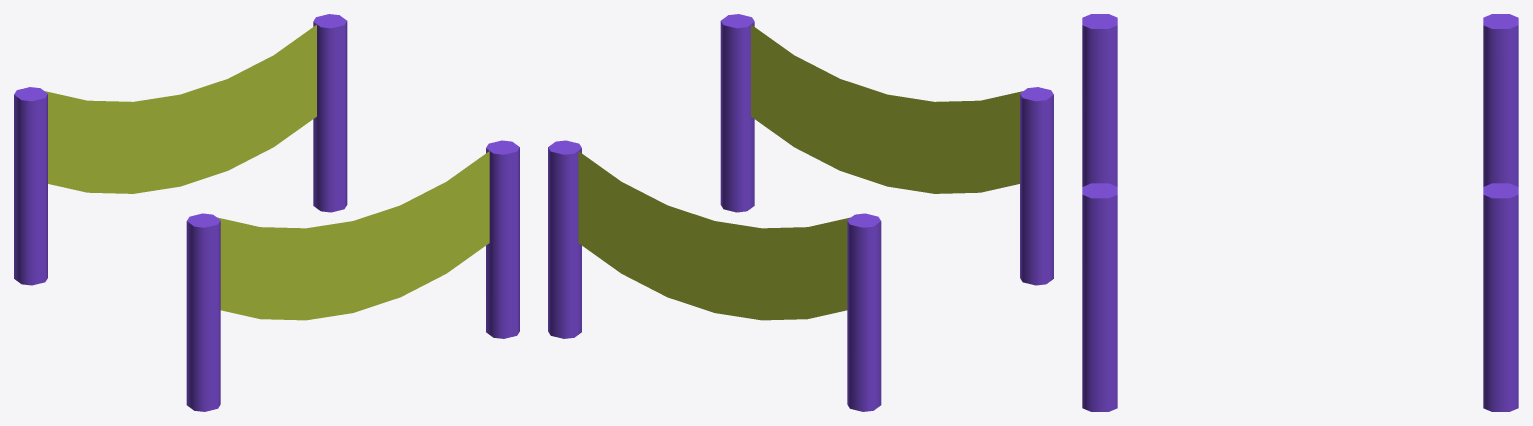
File: banner_hanging_double.dae
The picture shows the model from 3 angles, left to right: view 1: azimuth 30°, elevation 25°; view 2: azimuth 150°, elevation 25°; view 3: azimuth 270°, elevation 25°; orthographic projection. The views are drawn at different scales.
Visible parts, largest first — view 1: banner_hanging_double; view 2: banner_hanging_double; view 3: banner_hanging_double.
Boxes of the visible parts, x1,y1,x2,y2 form: banner_hanging_double: (14,14,519,411); banner_hanging_double: (548,14,1053,411); banner_hanging_double: (1082,14,1518,411).
Size of the model in its own units: 0.925 by 0.925 by 0.5.
